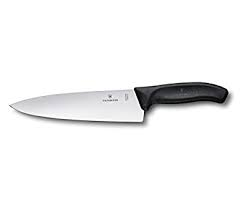knife: (8, 80, 229, 124)
